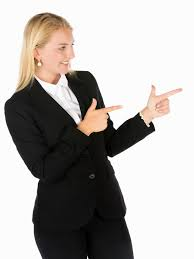hand: (74, 96, 128, 135), (142, 81, 189, 118)
